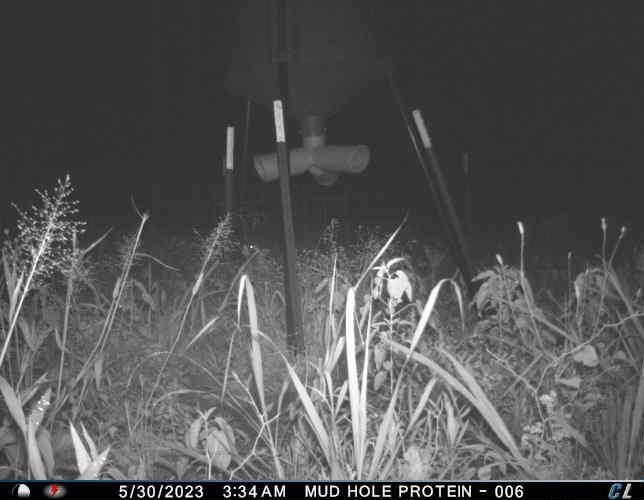Raccoon: (238, 240, 272, 266)
